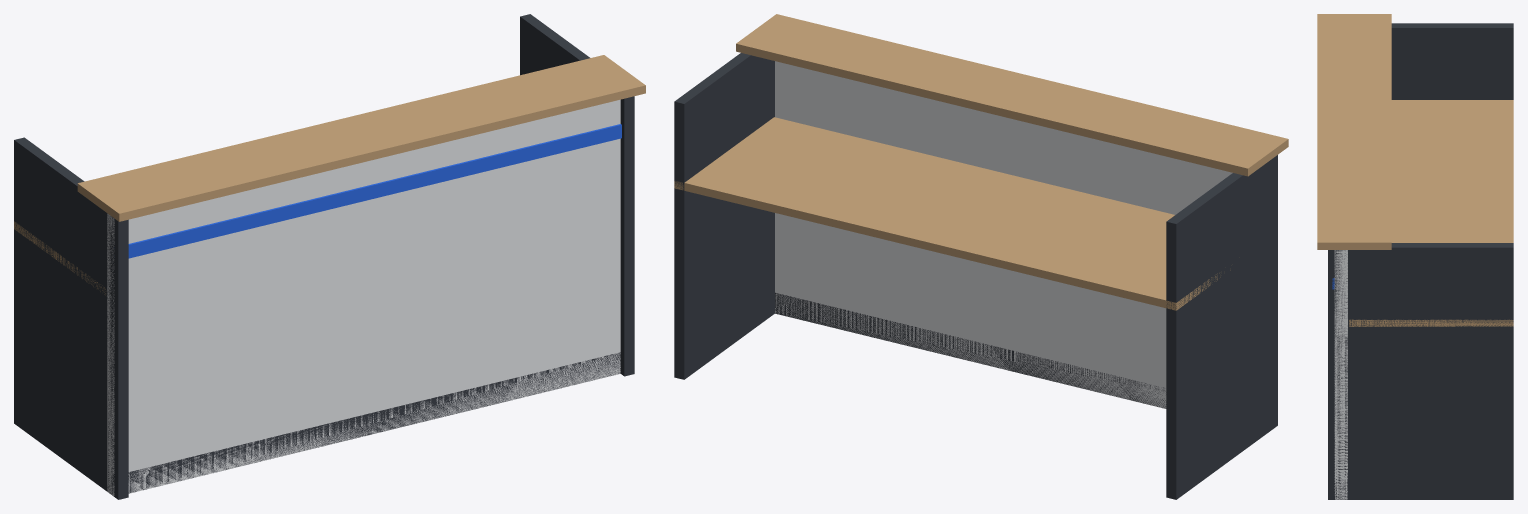
The model's file is bancada-recepcao.glb.
3 views of the same model, side by side, from view 1: azimuth 30°, elevation 25°; view 2: azimuth 150°, elevation 25°; view 3: azimuth 270°, elevation 25° (orthographic). The views are drawn at different scales.
Visible parts, largest first — view 1: receptionCounter; view 2: receptionCounter; view 3: receptionCounter.
Boxes of the visible parts, x1=… form: receptionCounter: x1=14, y1=14, x2=645, y2=499; receptionCounter: x1=674, y1=14, x2=1288, y2=499; receptionCounter: x1=1317, y1=14, x2=1513, y2=499.
Bounding box in the file's own units: 2.04 × 1.08 × 0.74.
